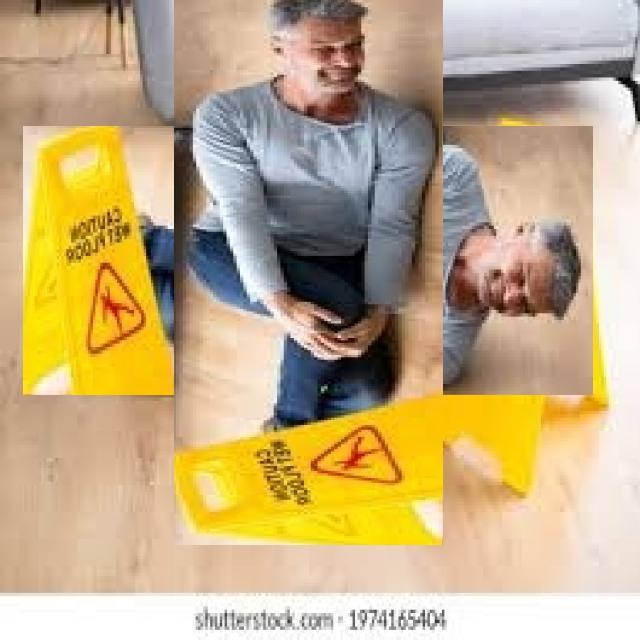Fall: (175, 0, 434, 451)
